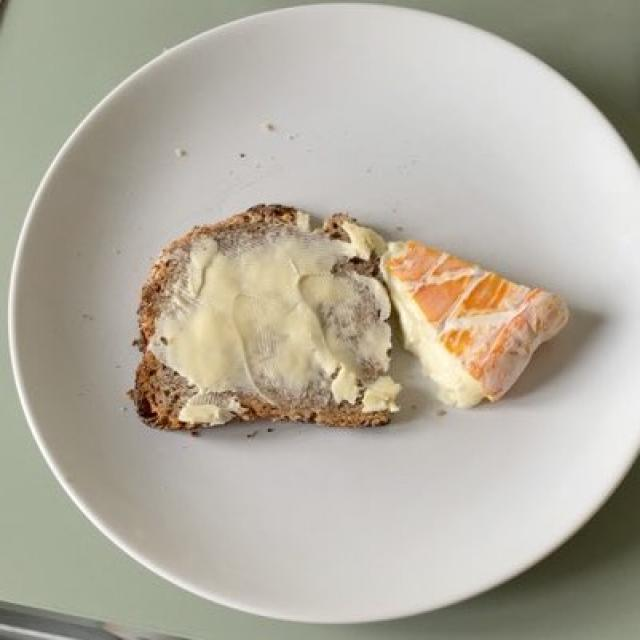bread-wholemeal: (128, 219, 395, 444)
butter: (163, 219, 376, 412)
soft-cheese: (361, 227, 574, 415)
